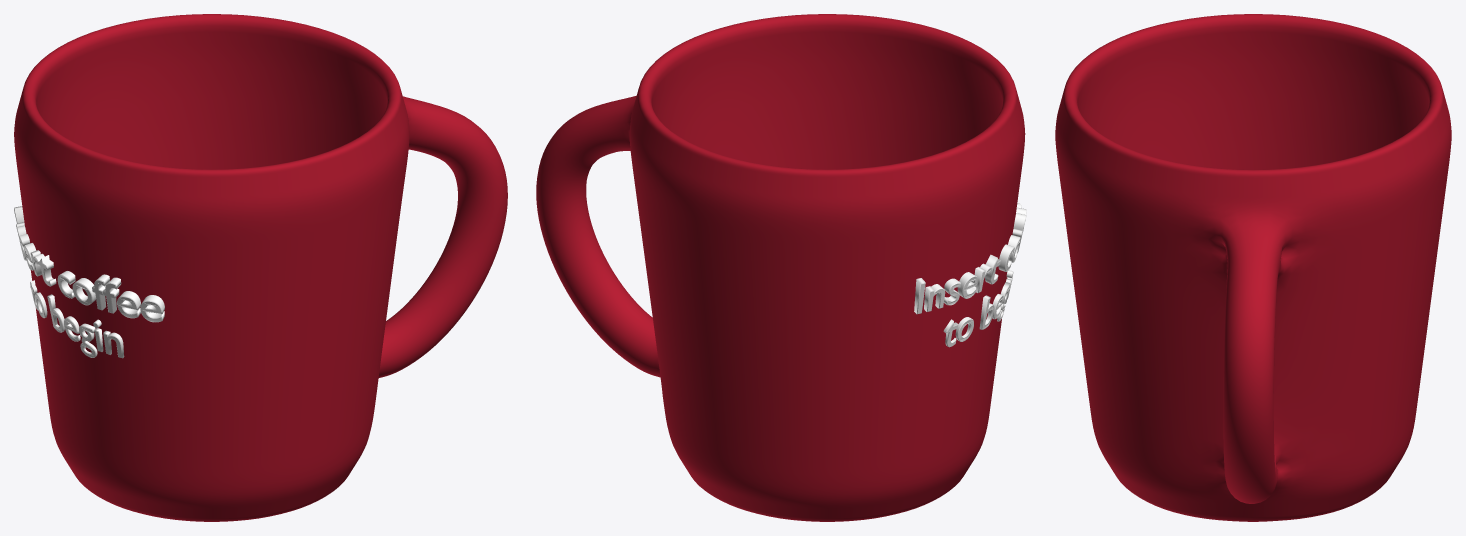
File: skodelicafinal.dae
The picture shows the model from 3 angles, left to right: view 1: azimuth 30°, elevation 25°; view 2: azimuth 150°, elevation 25°; view 3: azimuth 270°, elevation 25°; orthographic projection.
Parts seen in each view (by area): view 1: Circle_001; view 2: Circle_001; view 3: Circle_001.
Part boxes in pixels (<box>): Circle_001: <box>14,14,507,521</box>; Circle_001: <box>536,14,1026,521</box>; Circle_001: <box>1055,14,1451,521</box>.
Bounding box in the file's own units: 3.38 × 2.51 × 2.64.
